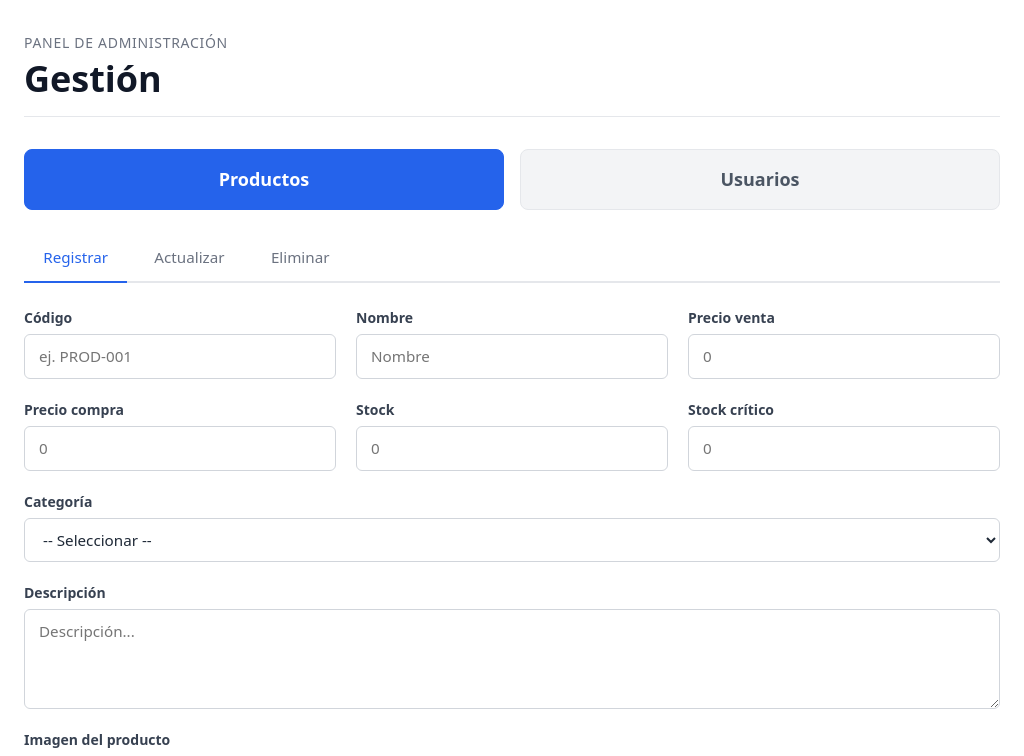
Test: Administrador › navega entre tabs de Usuarios correctamente
This screenshot has width=1024, height=756.
Click the button "Usuarios" at (760, 180), box [520, 149, 1000, 210]
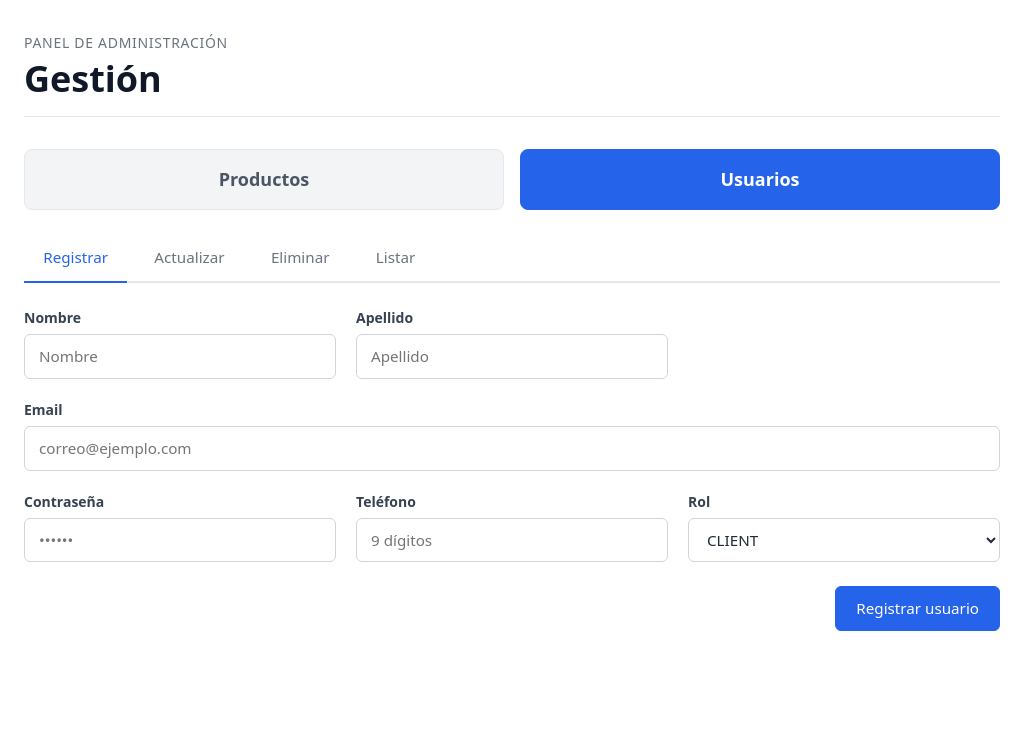
Click the button "Eliminar" at (300, 259), box [252, 234, 349, 283]
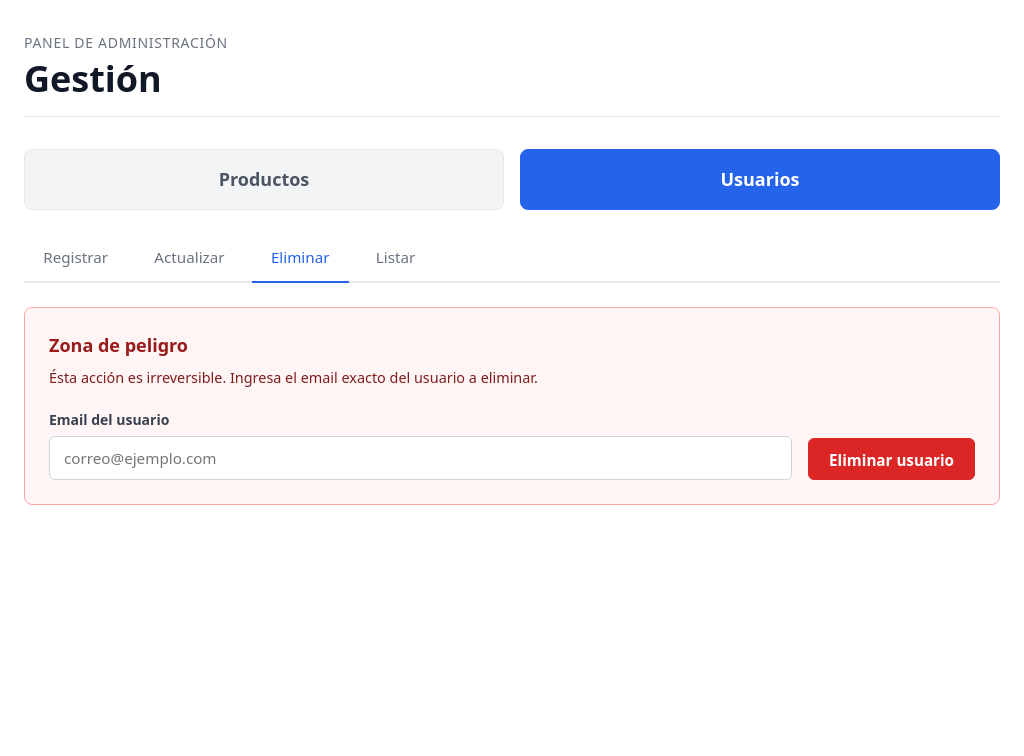
Now the text "Zona de peligro" is shown, box [49, 333, 188, 357]
Now the text "Ingresa el email exacto del usuario a eliminar" is shown, box [49, 368, 538, 387]
Click the button "Listar" at (396, 259), box [357, 234, 434, 283]
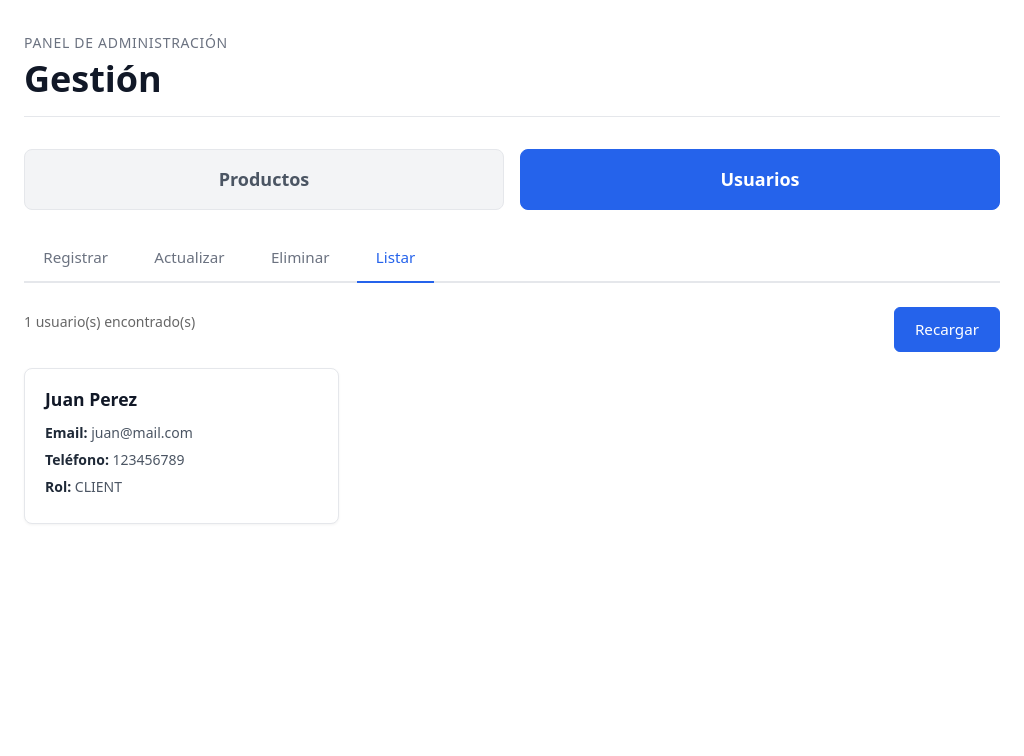
Now the button "Recargar" is shown, box [894, 307, 1000, 352]
